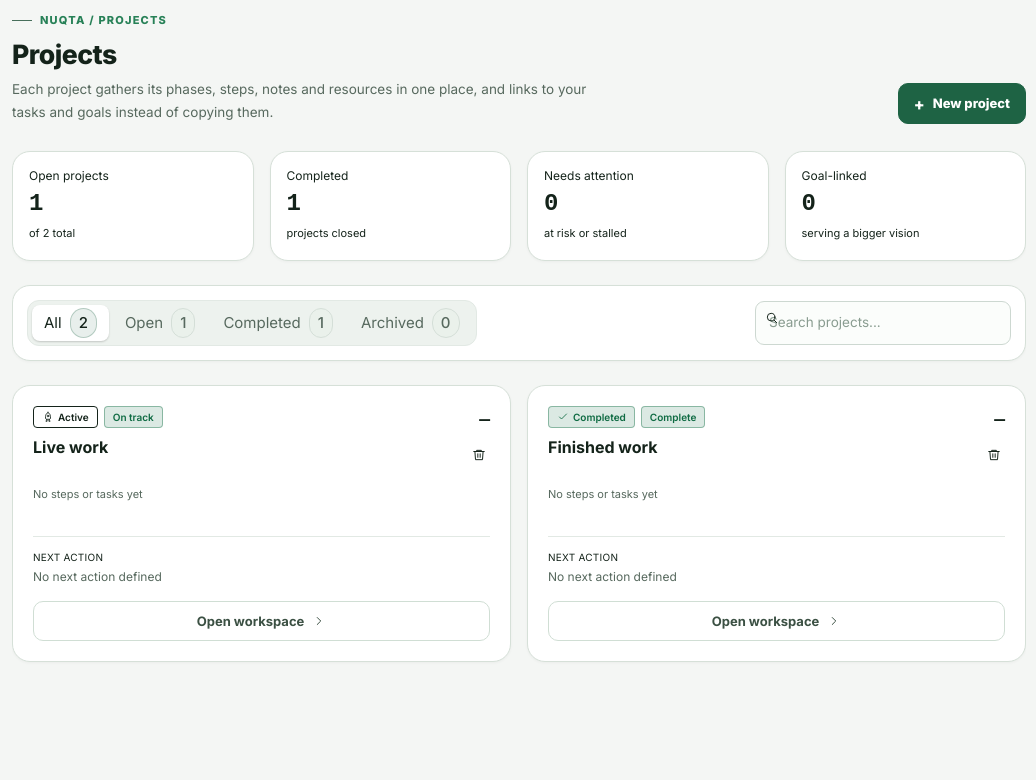
Scenario: ProjectsView — the hub › filters by lifecycle status
Expected: the heading "Live work" is shown, [33, 437, 108, 457]
Expected: the heading "Finished work" is shown, [548, 437, 658, 457]
Click the tab "Completed 1": (278, 323) [211, 305, 345, 341]
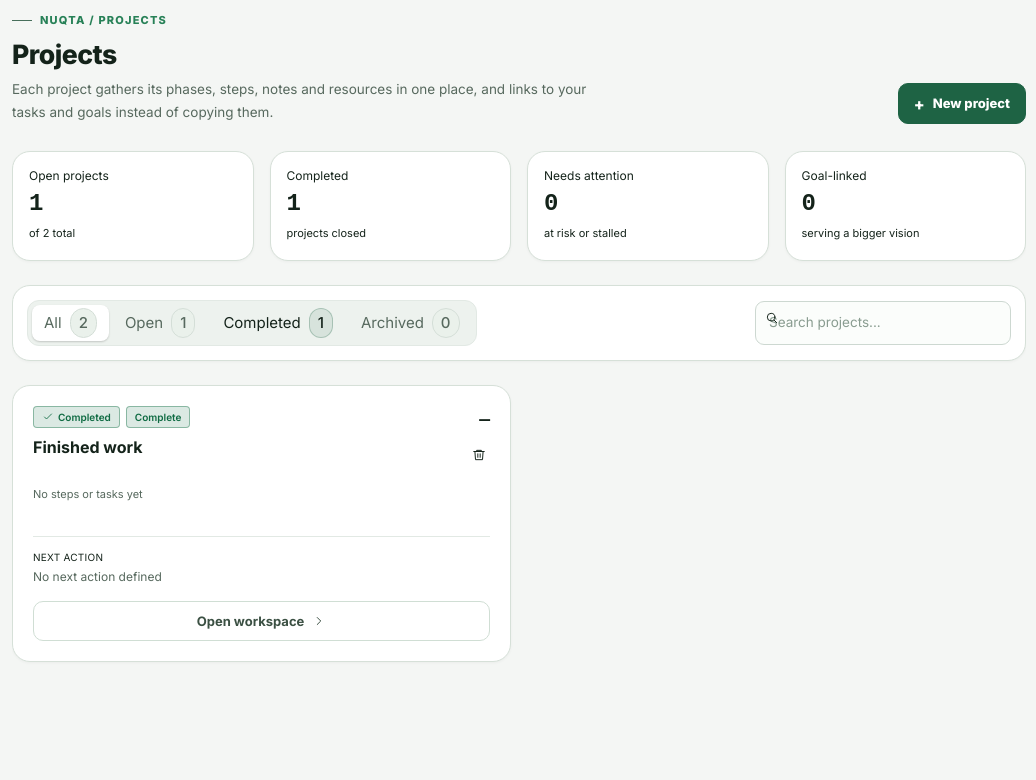
Expected: the heading "Finished work" is shown, [33, 437, 143, 457]
Expected: the button "Live work" is gone
